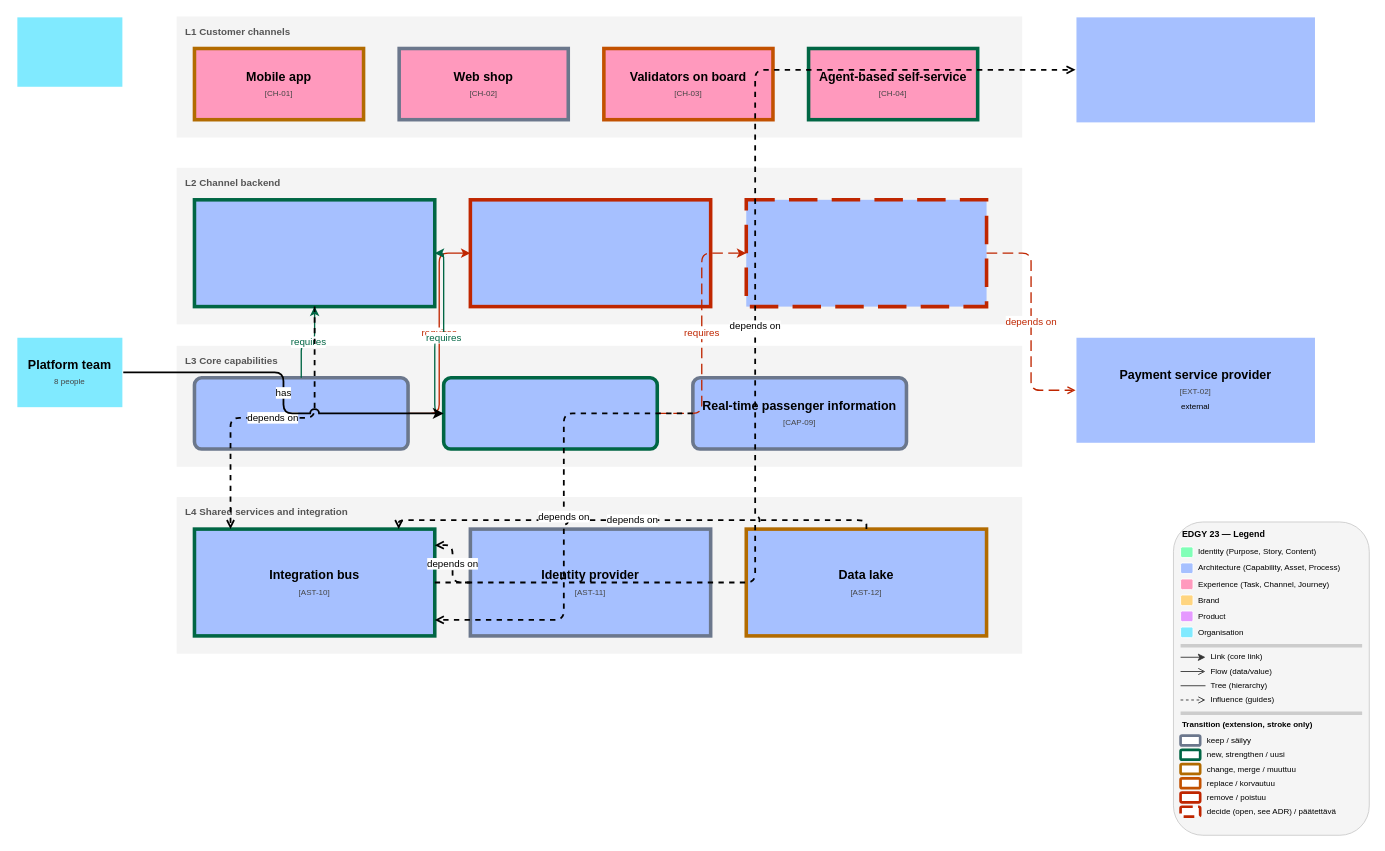
Image size: 1385x851. Some labels were removed from this diagram. The centre of each missing label's shape, as x and y in pixels:
"Account-based ticketing platform [AST-02]" goes at pixel 314 253.
"Account-based travel [CAP-03]" goes at pixel 550 413.
"Legacy fare engine [AST-01]" goes at pixel 590 253.
"National timetable registry [EXT-01] external" goes at pixel 1195 69.
"Open-loop payment gateway [AST-04]" goes at pixel 866 253.
"Passengers 1.2 M trips / month" goes at pixel 69 51.
"Ticketing [CAP-05]" goes at pixel 300 413.
